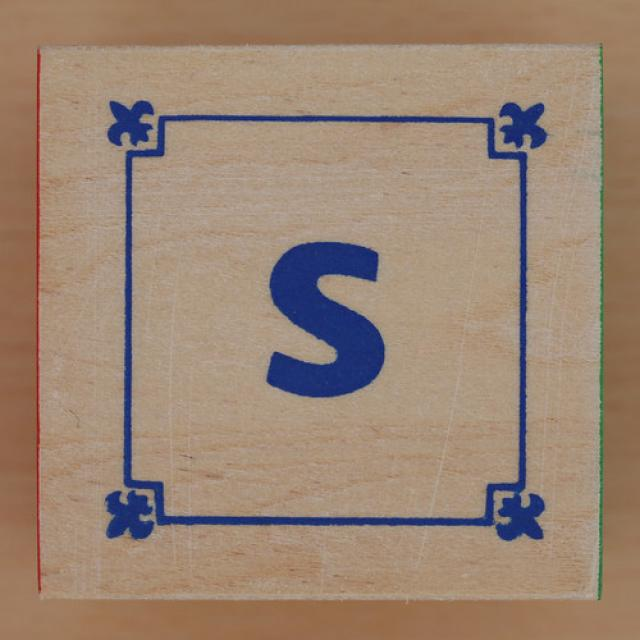S: (227, 225, 452, 444)
